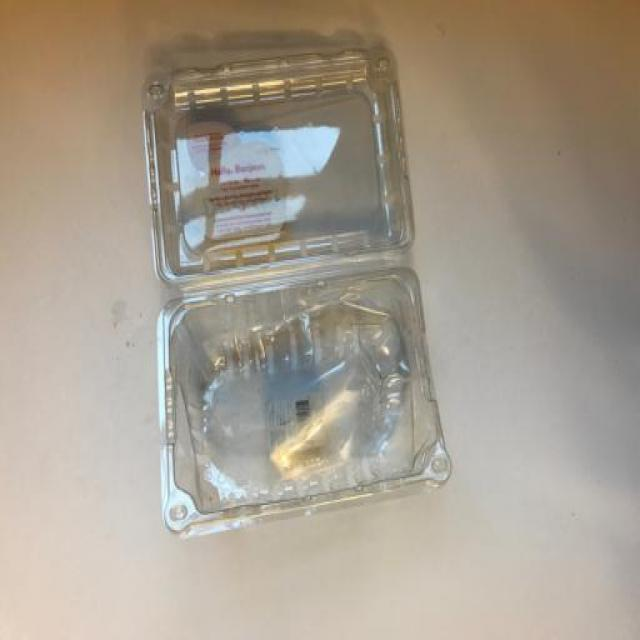plastic: (135, 33, 462, 538)
